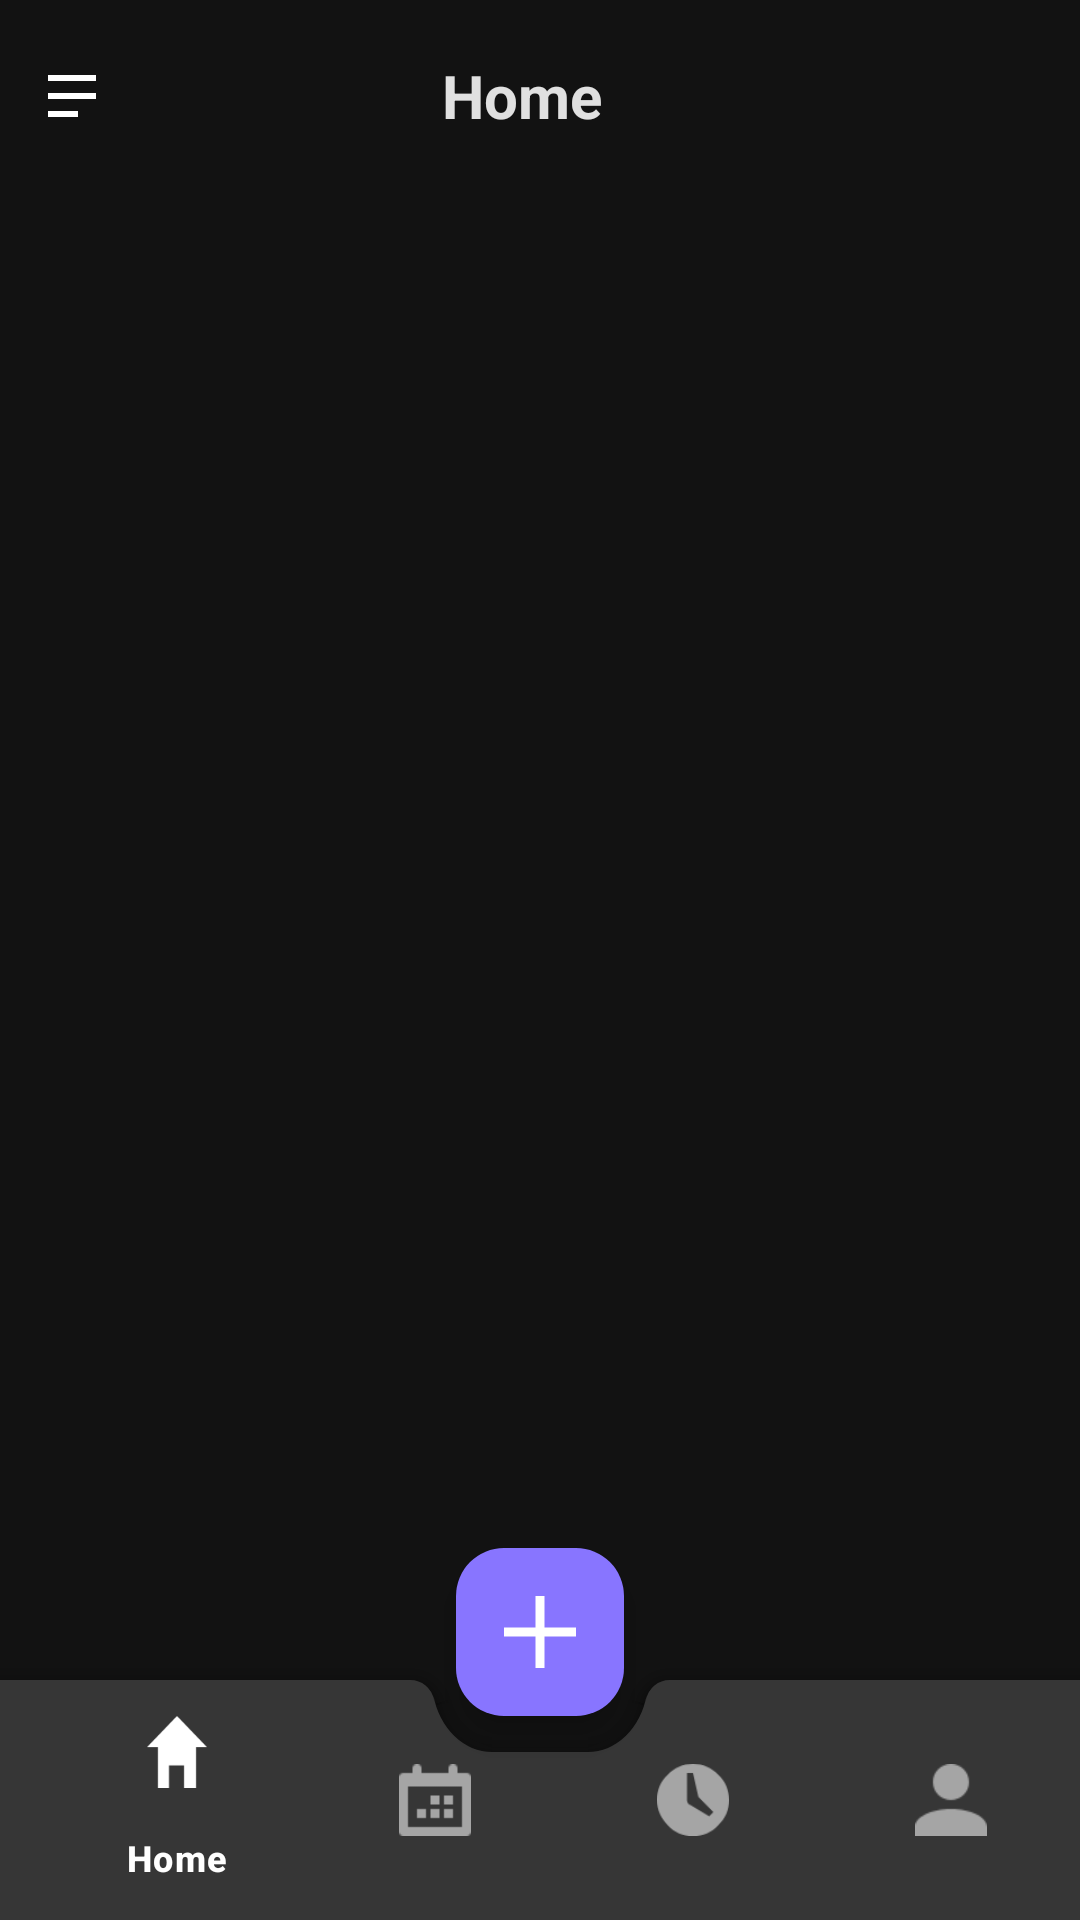

Where to tap for icons on this 1080 × 1920 app screen, as (x=x, y=y):
add: (x=540, y=1680)
menu: (x=72, y=96)
